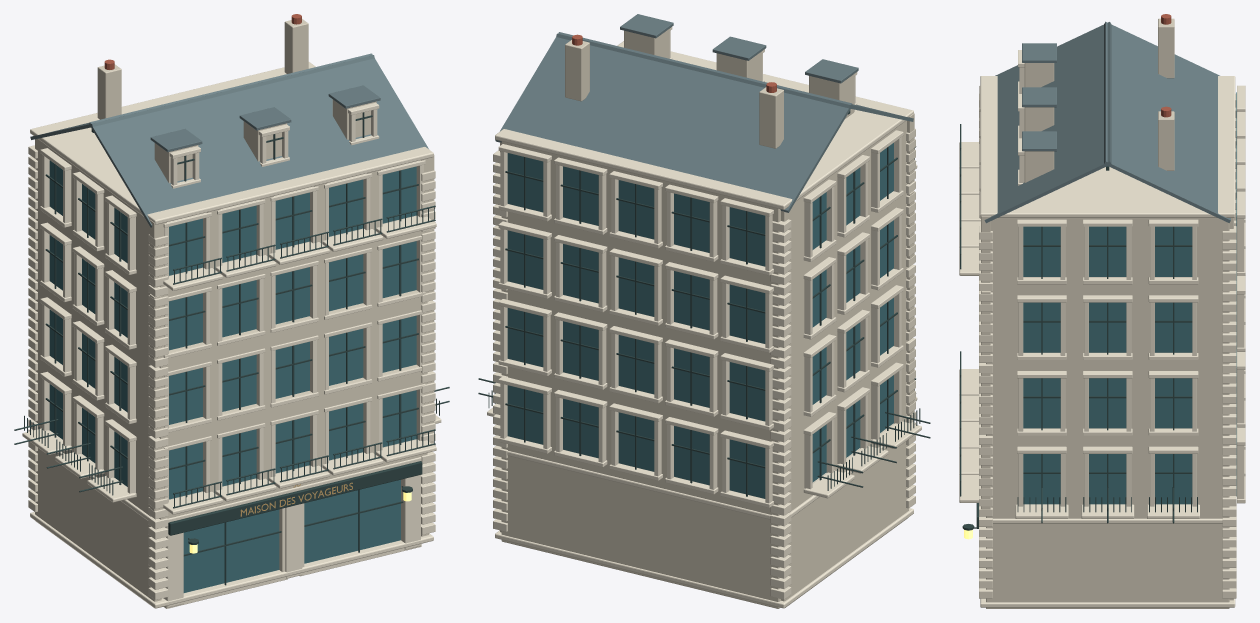
Rendered from Maison.glb.
3 renders of one model, left to right at view 1: azimuth 30°, elevation 25°; view 2: azimuth 150°, elevation 25°; view 3: azimuth 270°, elevation 25°, orthographic. The views are drawn at different scales.
Visible parts, largest first — view 1: Maison_Carved ivory, Maison_Window blue, Maison_Paris limestone, Maison_Zinc slate, Maison_Forged midnight; view 2: Maison_Carved ivory, Maison_Paris limestone, Maison_Window blue, Maison_Zinc slate, Maison_Forged midnight; view 3: Maison_Paris limestone, Maison_Carved ivory, Maison_Zinc slate, Maison_Window blue, Maison_Forged midnight.
Boxes of the visible parts, <box> form: Maison_Carved ivory: <box>22,62,441,608</box>; Maison_Window blue: <box>49,160,416,592</box>; Maison_Paris limestone: <box>35,19,434,607</box>; Maison_Zinc slate: <box>30,53,428,227</box>; Maison_Forged midnight: <box>14,112,449,585</box>; Maison_Carved ivory: <box>487,27,921,608</box>; Maison_Paris limestone: <box>500,29,914,608</box>; Maison_Window blue: <box>507,143,893,498</box>; Maison_Zinc slate: <box>495,14,913,212</box>; Maison_Forged midnight: <box>478,110,930,496</box>; Maison_Paris limestone: <box>981,18,1233,608</box>; Maison_Carved ivory: <box>959,50,1245,607</box>; Maison_Zinc slate: <box>984,21,1230,223</box>; Maison_Window blue: <box>1023,92,1236,504</box>; Maison_Forged midnight: <box>960,124,1197,530</box>.
Bounding box in the file's own units: 24.91 × 30.42 × 16.44.
